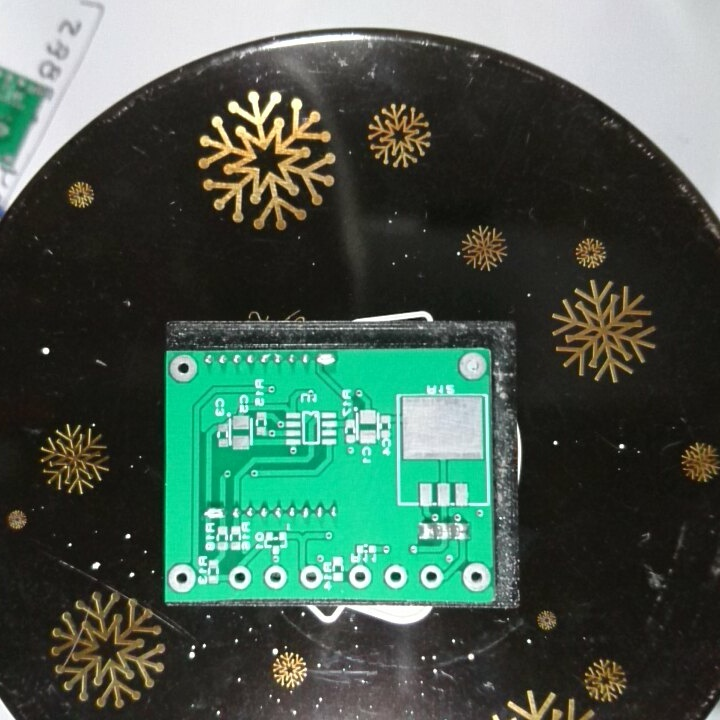F: (461, 560, 493, 595), (168, 561, 197, 597), (168, 353, 199, 386), (457, 351, 488, 382), (345, 563, 375, 591), (263, 562, 290, 591), (228, 563, 253, 593), (417, 563, 443, 590), (298, 563, 323, 590), (383, 563, 408, 589)
P: (202, 505, 227, 523), (315, 351, 337, 367)
